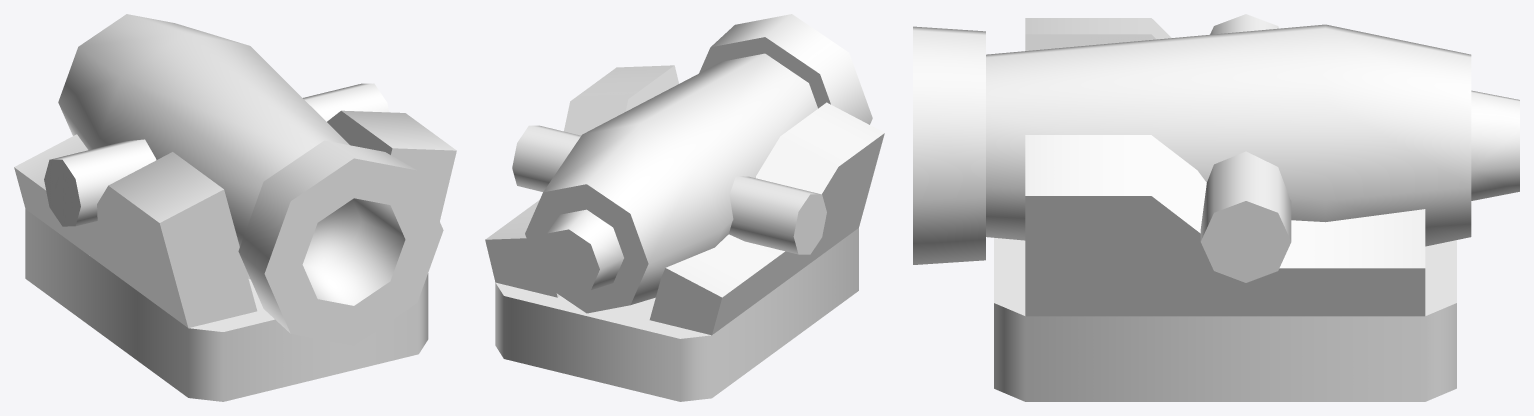
The model's file is cannon.glb.
3 views of the same model, side by side, from view 1: azimuth 30°, elevation 25°; view 2: azimuth 150°, elevation 25°; view 3: azimuth 270°, elevation 25° (orthographic). The views are drawn at different scales.
Parts seen in each view (by area): view 1: cannon, Group (×2); view 2: cannon, Group (×2); view 3: cannon, Group (×2).
Part boxes in pixels (x1,y1,x2,y2): cannon: (25,14,443,401); Group (×2): (14,110,456,327); cannon: (495,14,872,401); Group (×2): (485,65,884,335); cannon: (913,14,1519,401); Group (×2): (1025,18,1425,316).
Size of the model in its own units: 1.4 by 1.05 by 1.92.
1 material, 1 textured.
